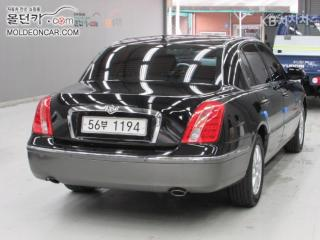1: (112, 120, 120, 132), (119, 119, 125, 132)
4: (133, 121, 143, 132)
5: (88, 119, 95, 130)
6: (94, 119, 101, 131)
9: (126, 121, 134, 132)
부: (101, 120, 108, 131)
